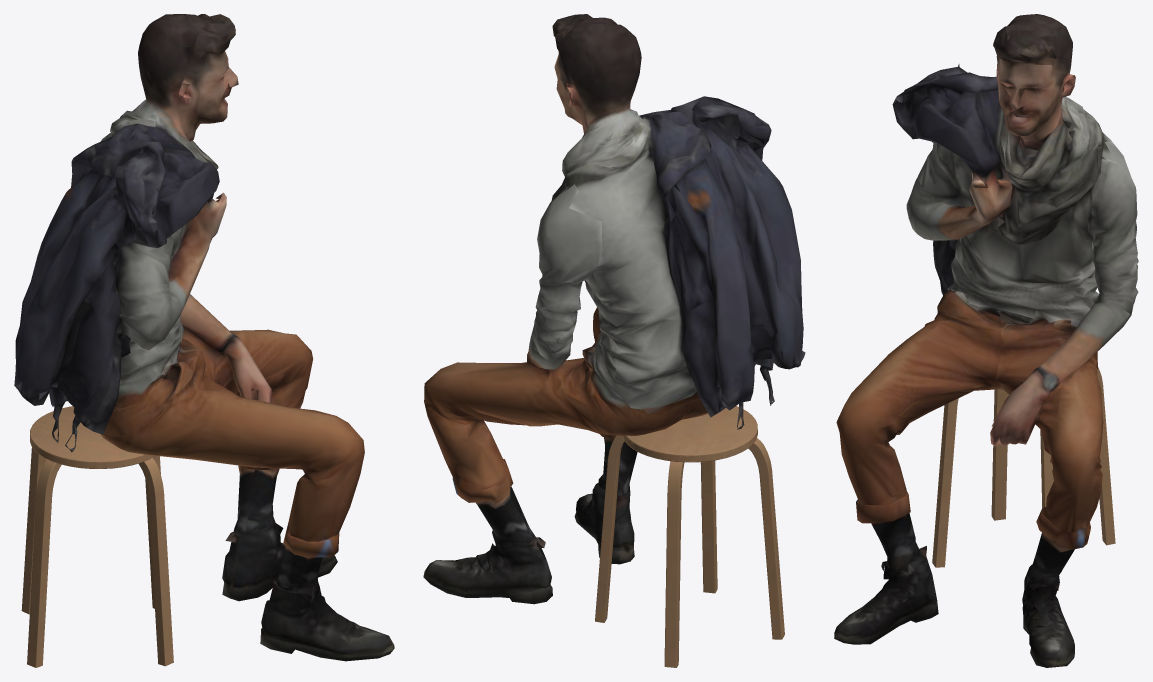
The model's file is man_a.gltf.
The picture shows the model from 3 angles, left to right: view 1: azimuth 30°, elevation 25°; view 2: azimuth 150°, elevation 25°; view 3: azimuth 270°, elevation 25°; orthographic projection. The views are drawn at different scales.
Visible parts, largest first — view 1: LowPoly_Tens_CAFE_VOL01_Bus01_Standard.001; view 2: LowPoly_Tens_CAFE_VOL01_Bus01_Standard.001; view 3: LowPoly_Tens_CAFE_VOL01_Bus01_Standard.001.
Part boxes in pixels (<box>): LowPoly_Tens_CAFE_VOL01_Bus01_Standard.001: <box>14,14,394,667</box>; LowPoly_Tens_CAFE_VOL01_Bus01_Standard.001: <box>423,14,805,667</box>; LowPoly_Tens_CAFE_VOL01_Bus01_Standard.001: <box>834,14,1138,667</box>.
Size of the model in its own units: 82.2 by 135 by 64.56.
Materials: 2 (2 with a texture image).
